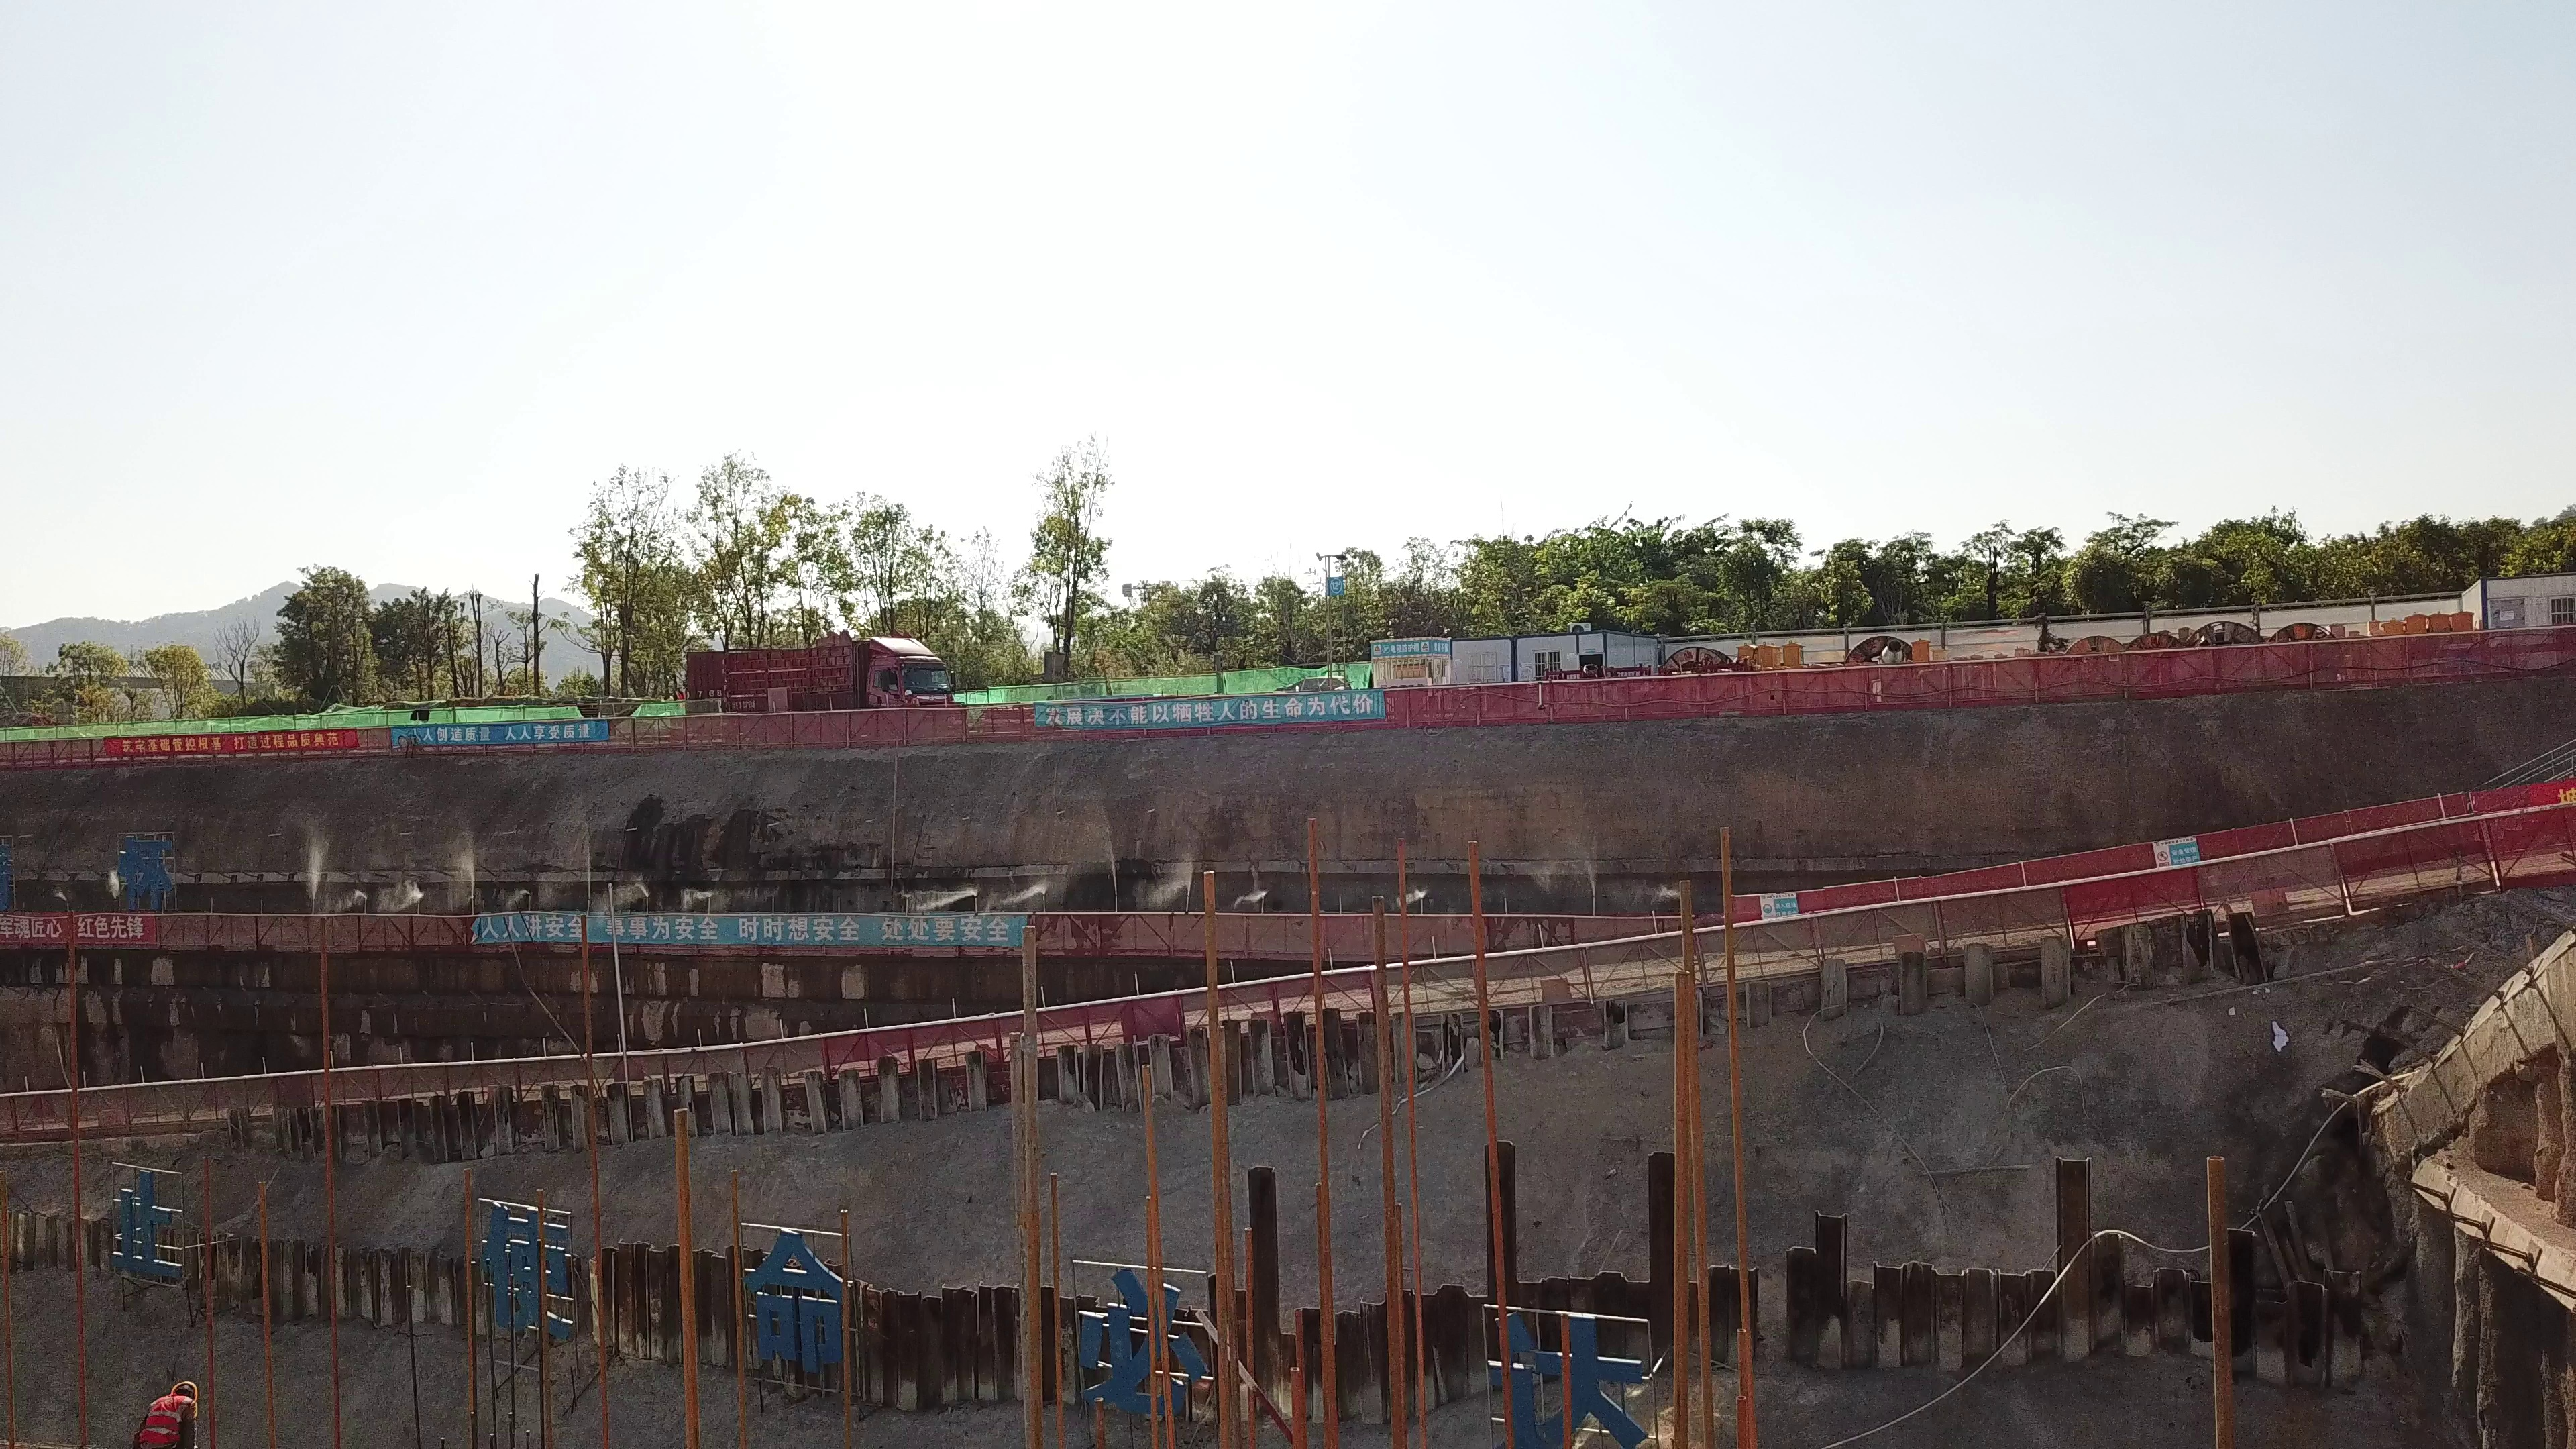fence: (1741, 842, 2198, 983), (1876, 622, 2561, 715), (2198, 790, 2571, 938), (1389, 668, 1883, 732), (616, 696, 1028, 758), (1031, 892, 1391, 961), (165, 907, 472, 948)
helmet: (171, 1381, 201, 1397)
person: (125, 1365, 221, 1449)
slogan: (467, 911, 1028, 947), (1035, 689, 1384, 730), (105, 723, 364, 759), (394, 720, 612, 749), (1, 916, 158, 944)
vest: (140, 1398, 195, 1446)
